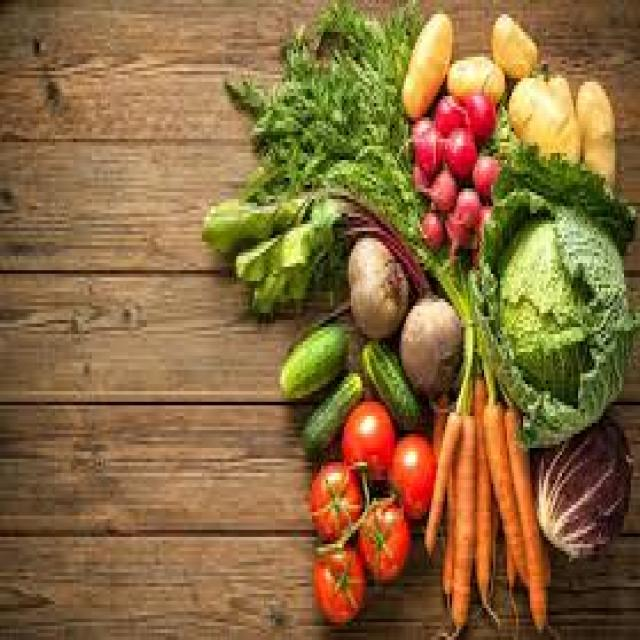Organik: (472, 195, 635, 444), (426, 391, 551, 626), (221, 194, 410, 315), (488, 10, 620, 157), (301, 317, 425, 461), (539, 414, 640, 567), (394, 13, 458, 122)
